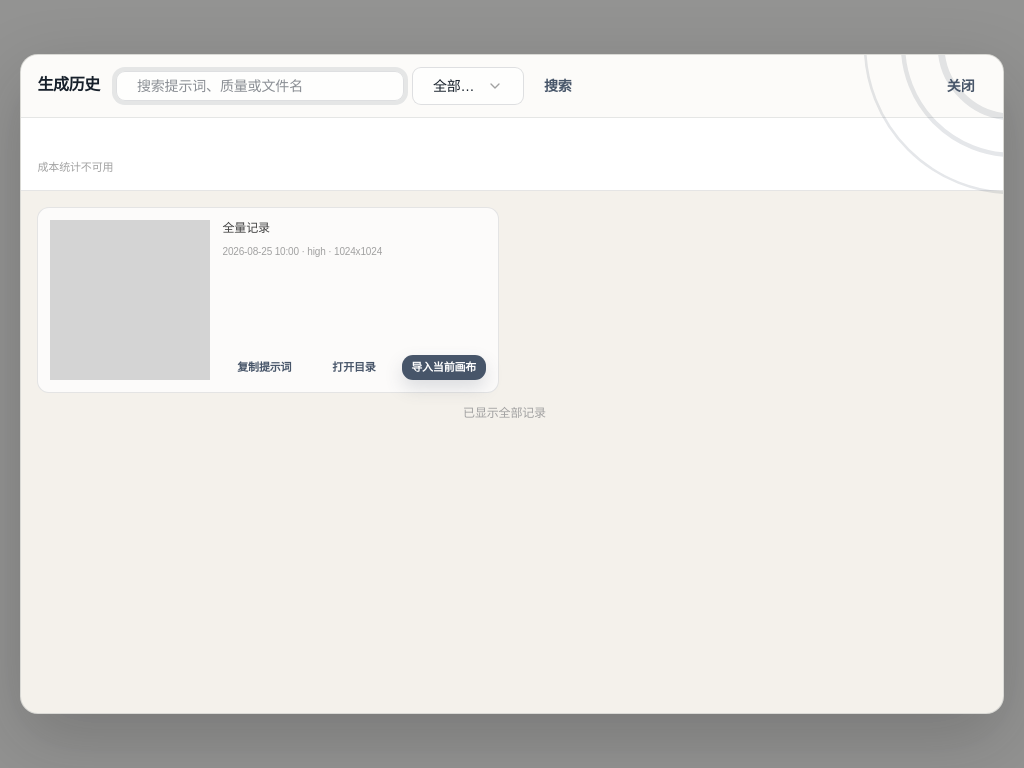
HistoryGallery 分页（滚动加载） › 状态筛选立即重载并从第 0 页开始
The width and height of the screenshot is (1024, 768).
Expected: the text "全量记录" is shown, [222,221,270,235]
Click the button "全部状态" at (468, 86), box [412,67,524,105]
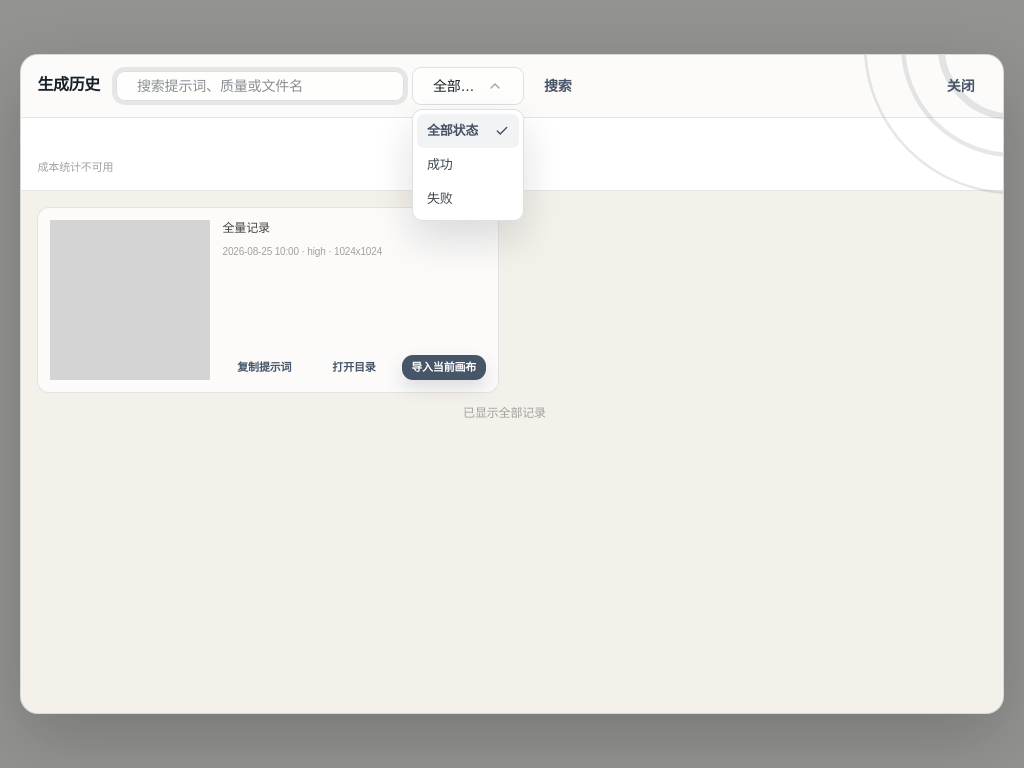
Click the option "失败" at (468, 199), box [417,182,519,216]
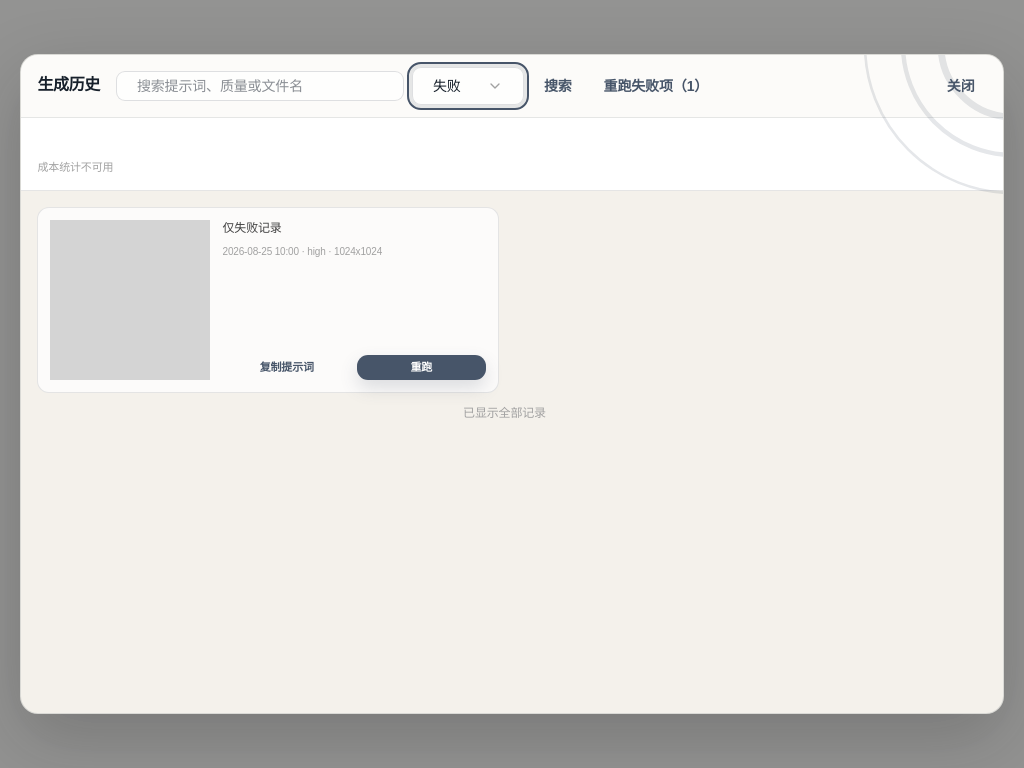
Expected: the text "仅失败记录" is shown, [222,221,282,235]
Expected: the text "全量记录" is gone
